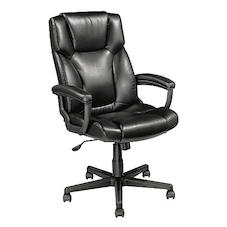chair: (27, 10, 195, 216)
